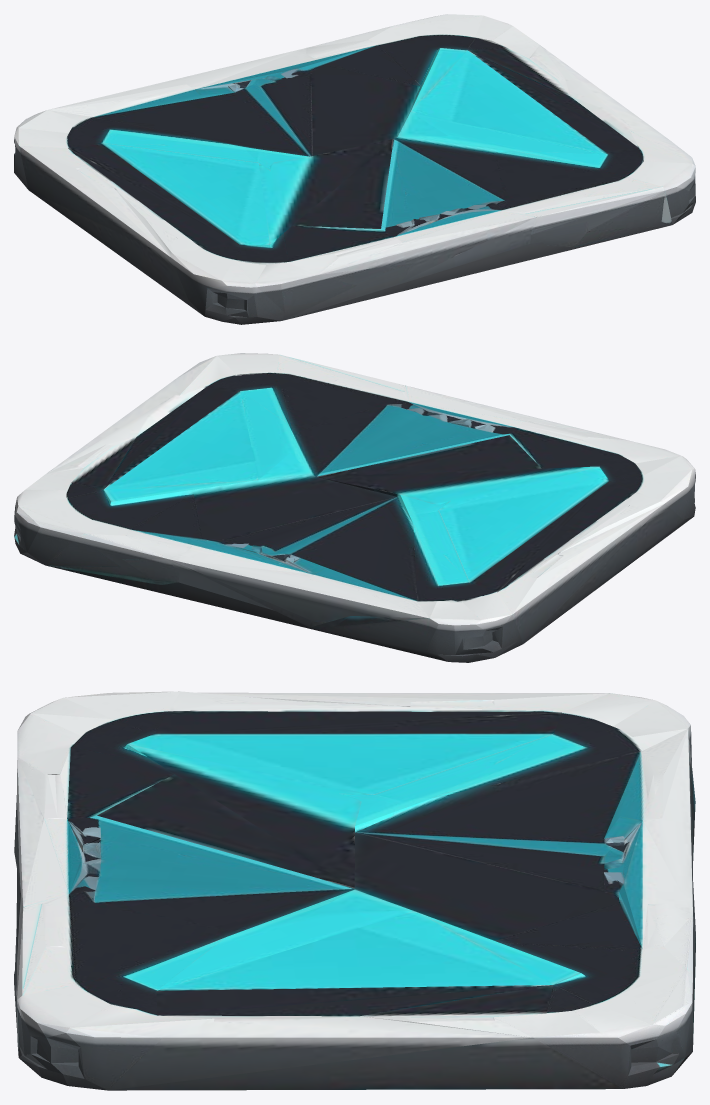
Rendered from boostpad.glb.
The picture shows the model from 3 angles, top to bottom: view 1: azimuth 30°, elevation 25°; view 2: azimuth 150°, elevation 25°; view 3: azimuth 270°, elevation 25°; orthographic projection. The views are drawn at different scales.
Size of the model in its own units: 1.9 by 0.1633 by 1.59.
1 material, 1 textured.
